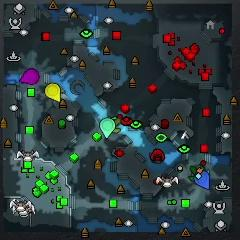p1: (193, 171, 211, 191)
p2: (100, 116, 115, 138)
p3: (20, 68, 41, 86)
p4: (44, 83, 62, 101)
x2: (112, 117, 122, 133)
x4: (189, 163, 205, 181)
